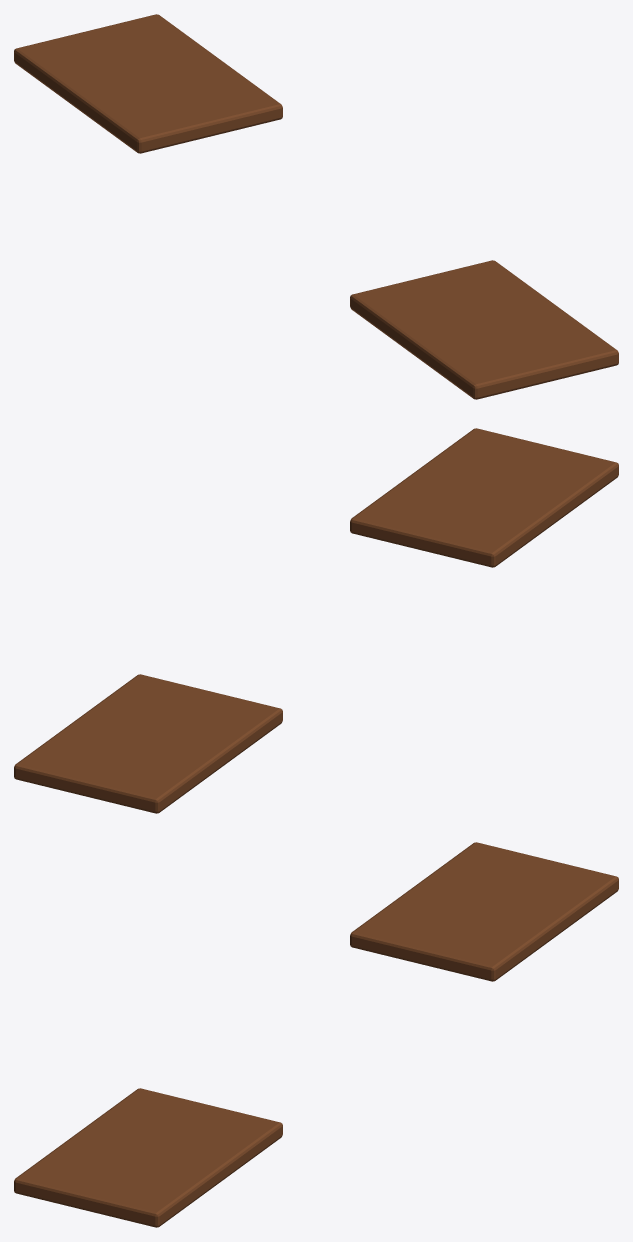
File: LoungeTables_BarTop.fbx
The picture shows the model from 3 angles, top to bottom: view 1: azimuth 30°, elevation 25°; view 2: azimuth 150°, elevation 25°; view 3: azimuth 330°, elevation 25°; orthographic projection.
Parts seen in each view (by area): view 1: LoungeTable0.001; view 2: LoungeTable0.001; view 3: LoungeTable0.001.
Part boxes in pixels (box(x1,y1,x2,y2)): LoungeTable0.001: box(14, 14, 618, 399); LoungeTable0.001: box(14, 428, 618, 813); LoungeTable0.001: box(14, 842, 618, 1227).
Bounding box in the file's own units: 400 × 40 × 2200.
